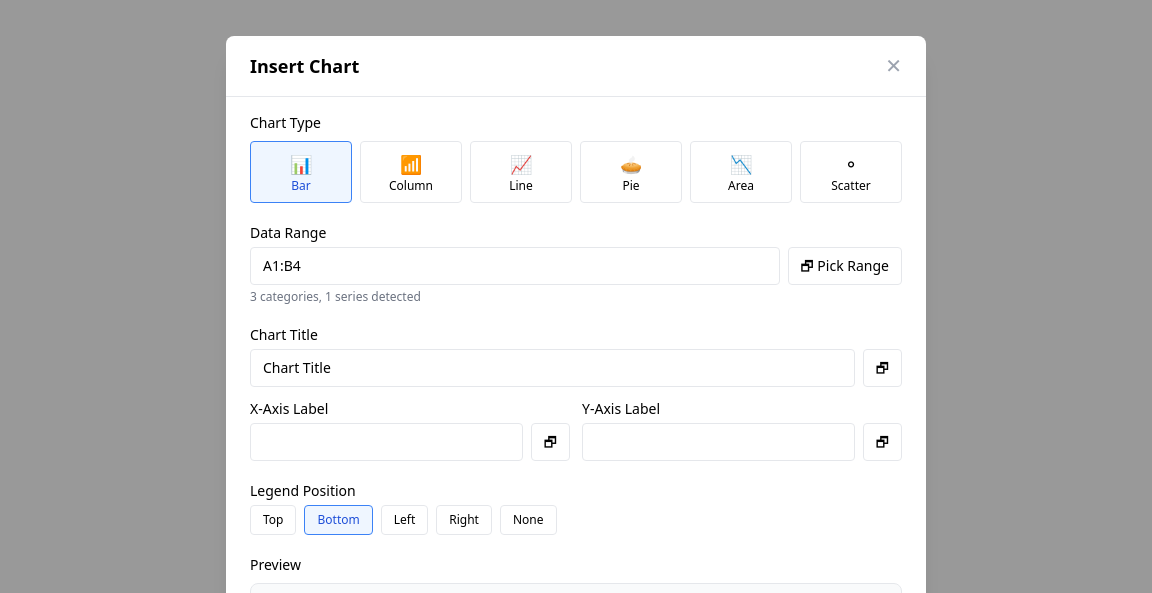
ChartDialog › changes chart type on click
Click the button with test id "chart-type-line": {"x": 521, "y": 172} [470,141,572,203]
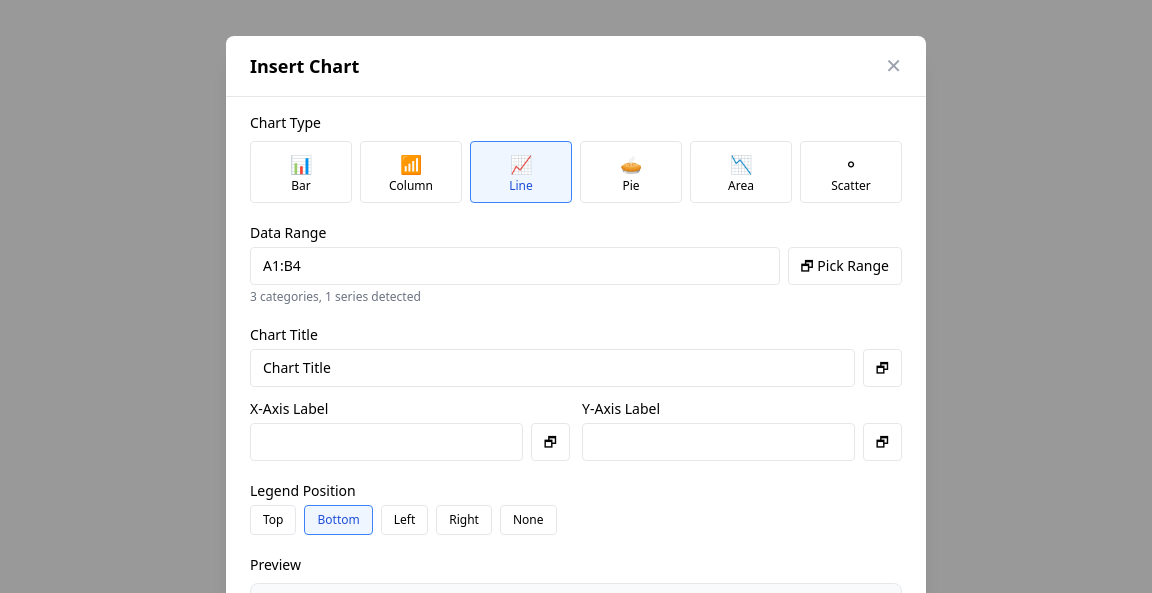
Now the button with test id "chart-type-line" has class "bg-blue-50", box [470,141,572,203]
